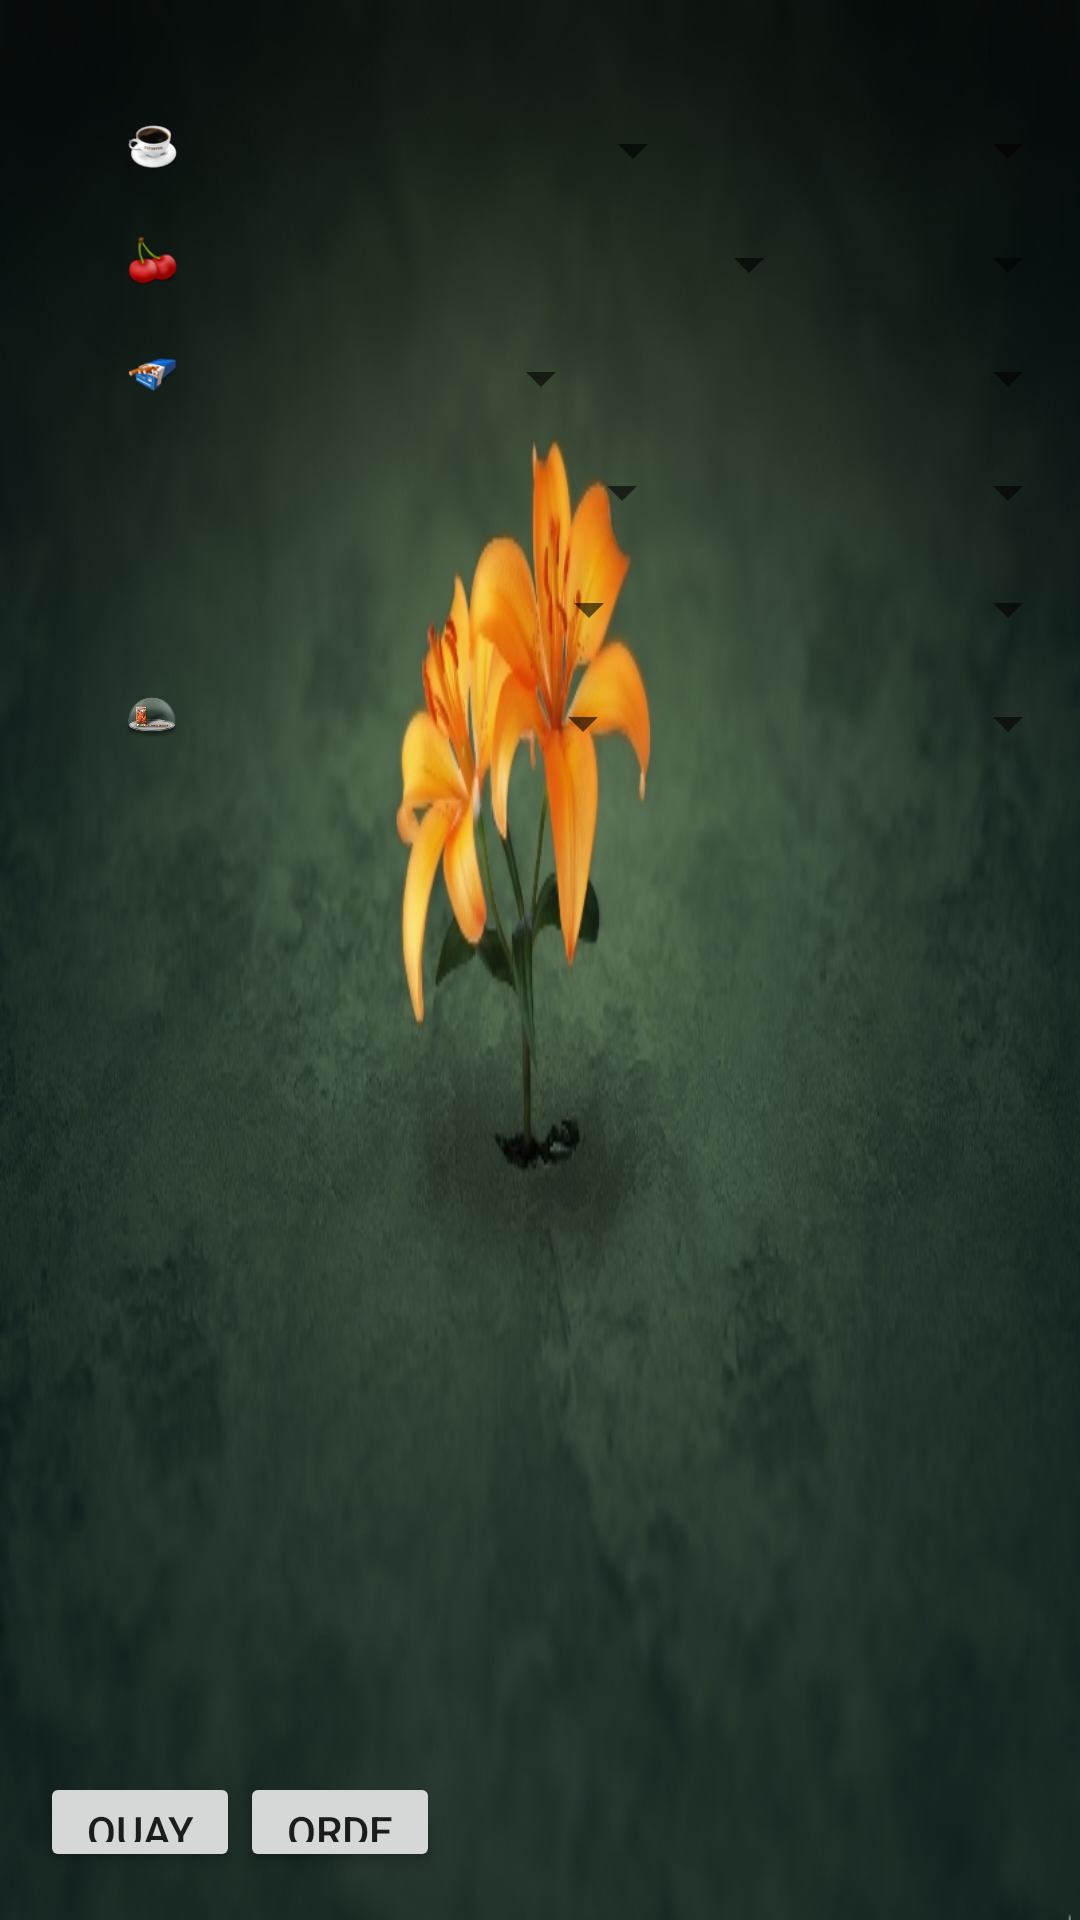

Screen size 1080 x 1920. Icon name, then its box in pixels as [left=x1, top=y1, right=x2, bottom=y2]:
thuoci: [left=129, top=358, right=176, bottom=391]
traicayi: [left=129, top=237, right=177, bottom=284]
